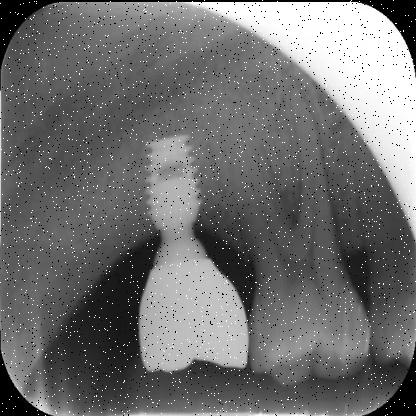Bicon: (139, 128, 211, 258)
